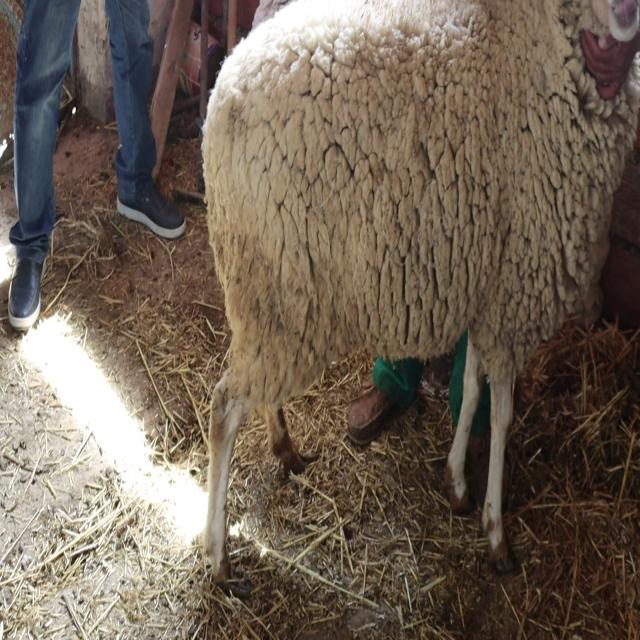Score_4: (202, 0, 640, 581)
